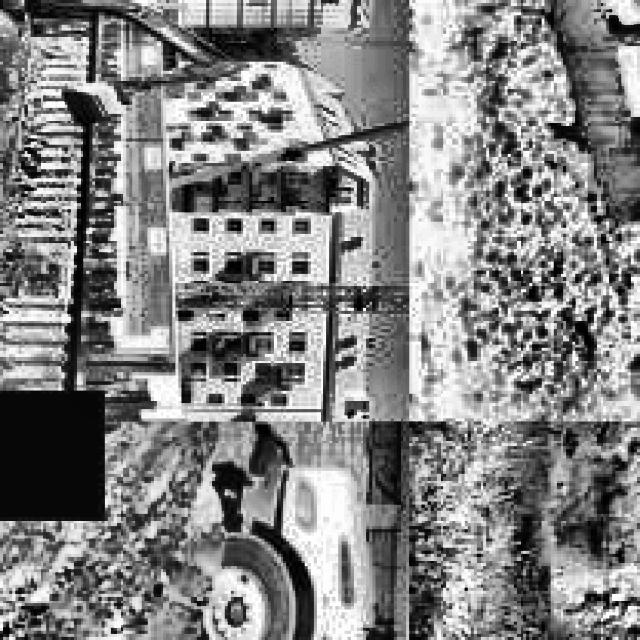excavator: (0, 0, 237, 126)
